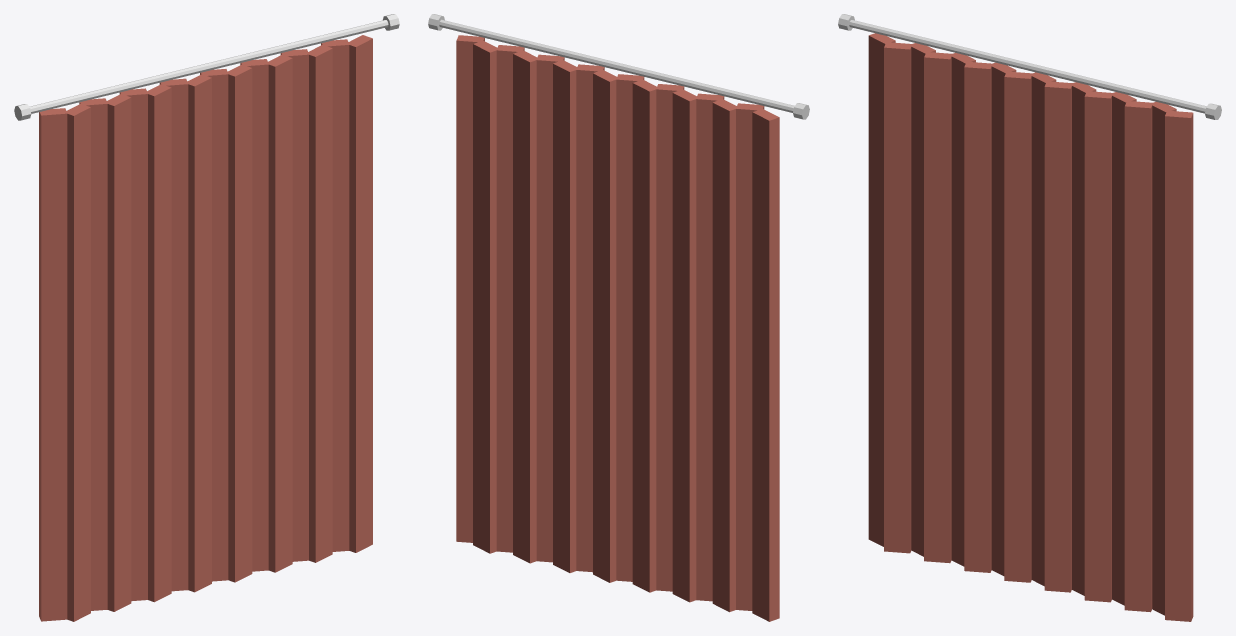
Rendered from curtain_heavy.glb.
The picture shows the model from 3 angles, left to right: view 1: azimuth 30°, elevation 25°; view 2: azimuth 150°, elevation 25°; view 3: azimuth 330°, elevation 25°; orthographic projection.
Visible parts, largest first — view 1: curtain_heavy; view 2: curtain_heavy; view 3: curtain_heavy.
Boxes of the visible parts, x1,y1,x2,y2 form: curtain_heavy: [14, 14, 399, 621]; curtain_heavy: [428, 14, 809, 621]; curtain_heavy: [838, 14, 1221, 621].
Size of the model in its own units: 1.64 by 2.17 by 0.1115.
